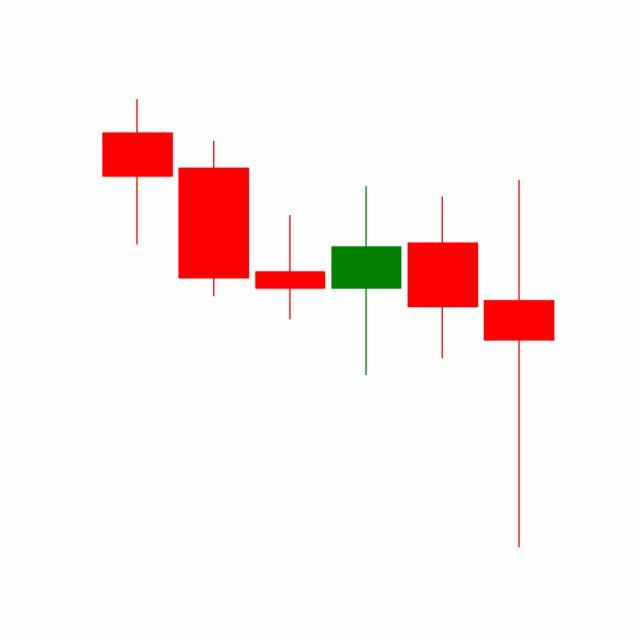Three Outside Up-Down: (326, 176, 555, 549)
